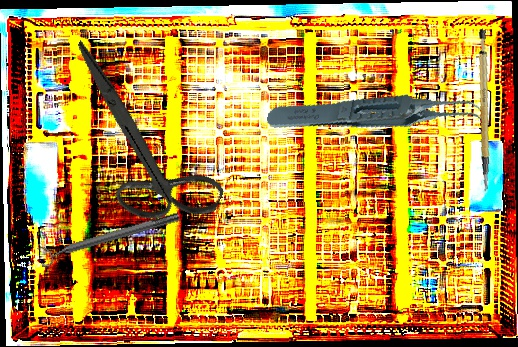Fixation Ring: (36, 206, 183, 269)
Iris Scissors: (23, 39, 257, 245)
Scalpel Handle: (457, 28, 508, 193)
Tissue Forceps: (265, 61, 493, 173)
